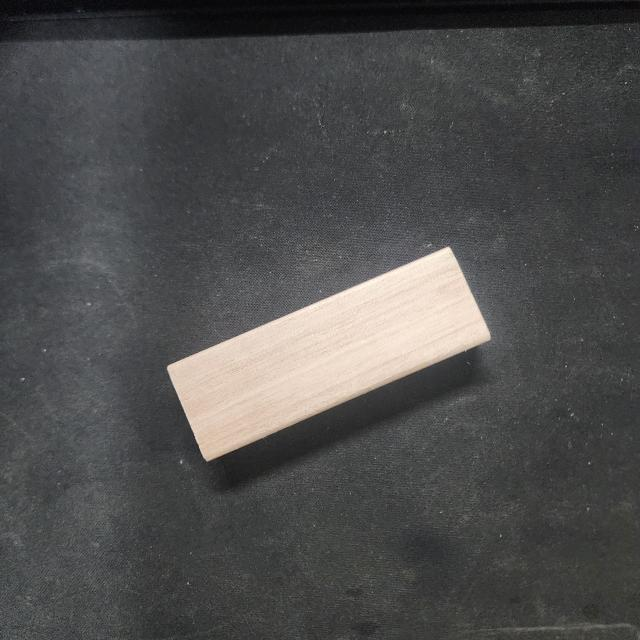wood: (164, 241, 492, 465)
